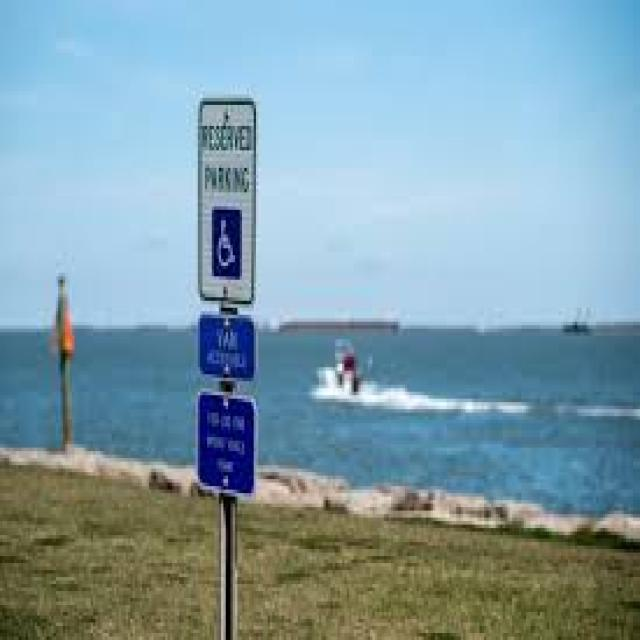car-handicap-placard: (216, 220, 237, 270)
